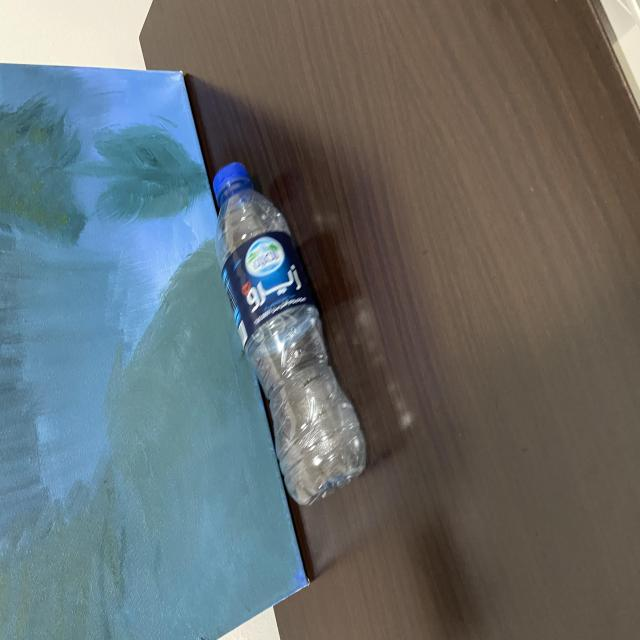plastic: (210, 154, 369, 507)
